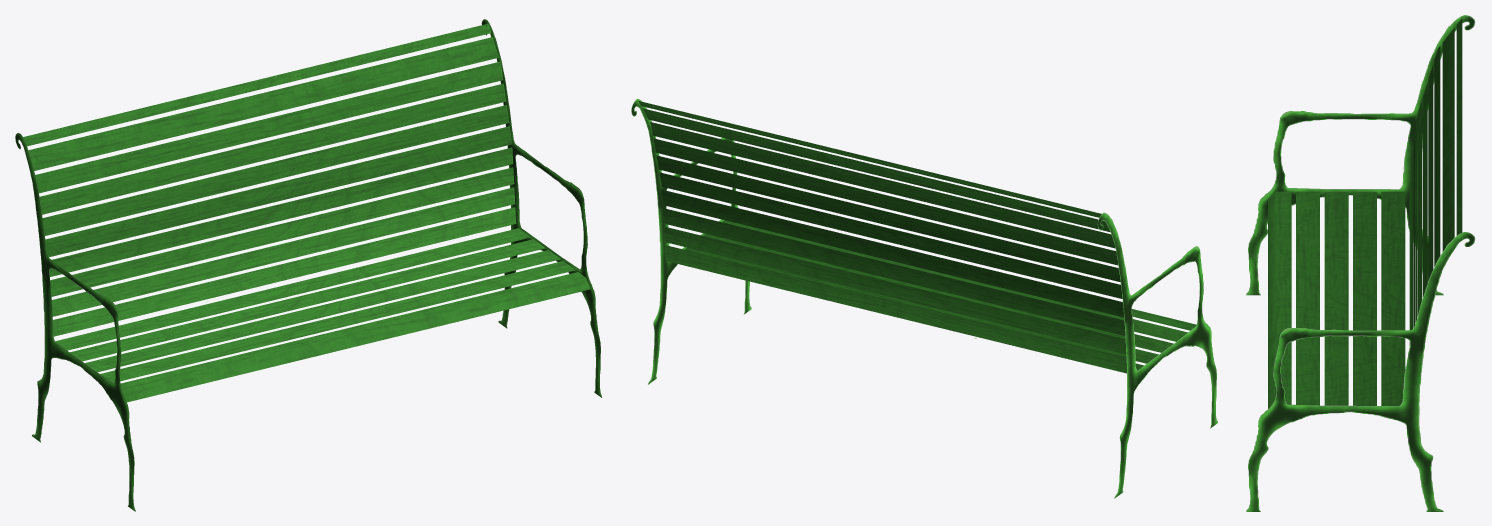
The model's file is parkBench_green.obj.
The picture shows the model from 3 angles, left to right: view 1: azimuth 30°, elevation 25°; view 2: azimuth 150°, elevation 25°; view 3: azimuth 270°, elevation 25°; orthographic projection. The views are drawn at different scales.
Parts seen in each view (by area): view 1: pasted__bench_4_v1 group; view 2: pasted__bench_4_v1 group; view 3: pasted__bench_4_v1 group.
Part boxes in pixels (x1,y1,x2,y2): pasted__bench_4_v1 group: [15, 19, 601, 511]; pasted__bench_4_v1 group: [631, 99, 1217, 498]; pasted__bench_4_v1 group: [1246, 15, 1475, 511].
Bounding box in the file's own units: 1.66 × 1.01 × 0.7506.
Materials: 1 (1 with a texture image).
